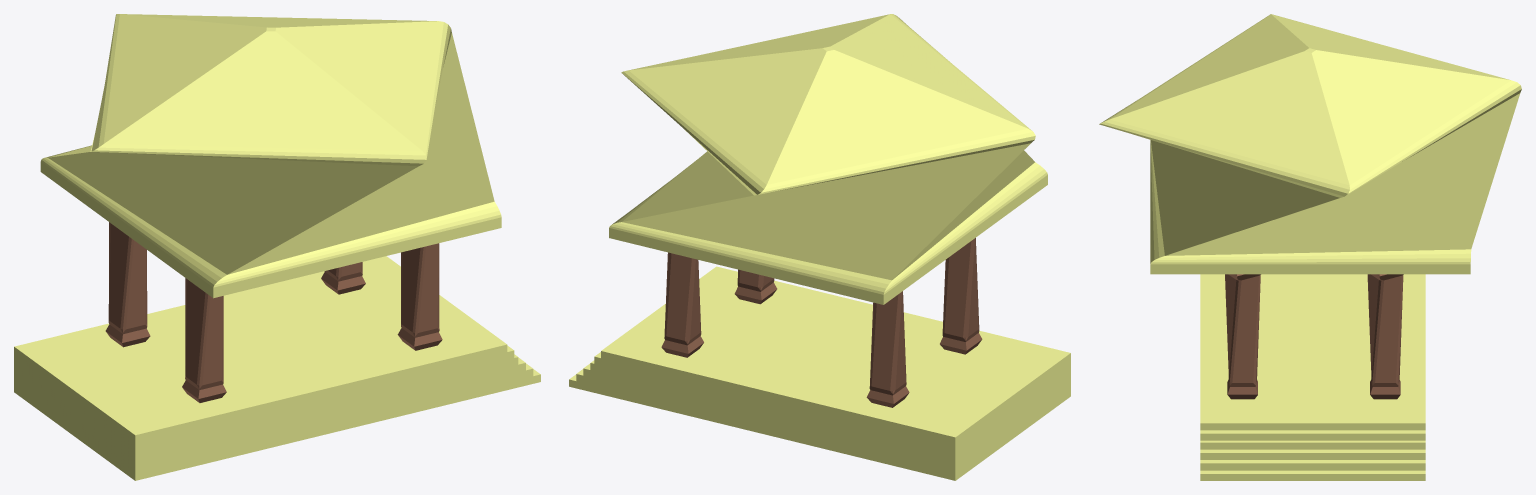
The model's file is rauniot.fbx.
3 renders of one model, left to right at view 1: azimuth 30°, elevation 25°; view 2: azimuth 150°, elevation 25°; view 3: azimuth 270°, elevation 25°, orthographic. The views are drawn at different scales.
Parts seen in each view (by area): view 1: Cube.002, Cube.001, Cube.005, Cube.004, Cube.006, Cube.003; view 2: Cube.002, Cube.001, Cube.004, Cube.005, Cube.003, Cube.006; view 3: Cube.002, Cube.001, Cube.006, Cube.003.
Part boxes in pixels (bbox=[...]): Cube.002: bbox=[40, 14, 501, 298]; Cube.001: bbox=[14, 256, 540, 480]; Cube.005: bbox=[182, 278, 226, 402]; Cube.004: bbox=[105, 222, 150, 347]; Cube.006: bbox=[397, 243, 442, 350]; Cube.003: bbox=[321, 262, 365, 294]; Cube.002: bbox=[609, 14, 1047, 304]; Cube.001: bbox=[569, 266, 1070, 480]; Cube.004: bbox=[866, 291, 909, 407]; Cube.005: bbox=[940, 238, 982, 354]; Cube.003: bbox=[661, 252, 703, 357]; Cube.006: bbox=[734, 269, 777, 304]; Cube.002: bbox=[1099, 14, 1521, 274]; Cube.001: bbox=[1200, 274, 1425, 480]; Cube.006: bbox=[1225, 274, 1260, 399]; Cube.003: bbox=[1367, 274, 1403, 399].
Size of the model in its own units: 1988 by 1676 by 1917.
